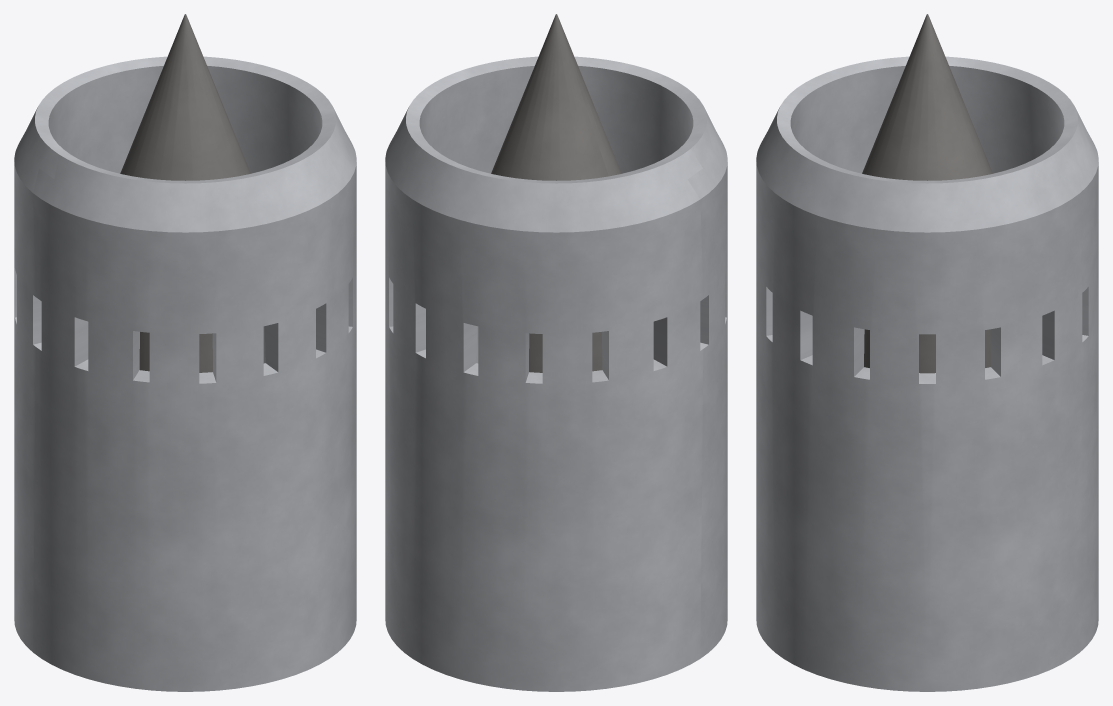
Rendered from jet07_shock_cone_intake_m.glb.
3 views of the same model, side by side, from view 1: azimuth 30°, elevation 25°; view 2: azimuth 150°, elevation 25°; view 3: azimuth 270°, elevation 25° (orthographic).
Parts seen in each view (by area): view 1: cowl, spike, centrebody; view 2: cowl, spike, centrebody; view 3: cowl, spike, centrebody.
Part boxes in pixels (x1,y1,x2,y2): cowl: (14, 56, 356, 691); spike: (120, 14, 250, 180); centrebody: (139, 332, 212, 372); cowl: (385, 56, 727, 691); spike: (491, 14, 621, 180); centrebody: (529, 332, 602, 372); cowl: (756, 56, 1098, 691); spike: (862, 14, 992, 180); centrebody: (864, 329, 990, 373).
Bounding box in the file's own units: 2.5 × 4.88 × 2.5.
Materials: 3 (2 with a texture image).
